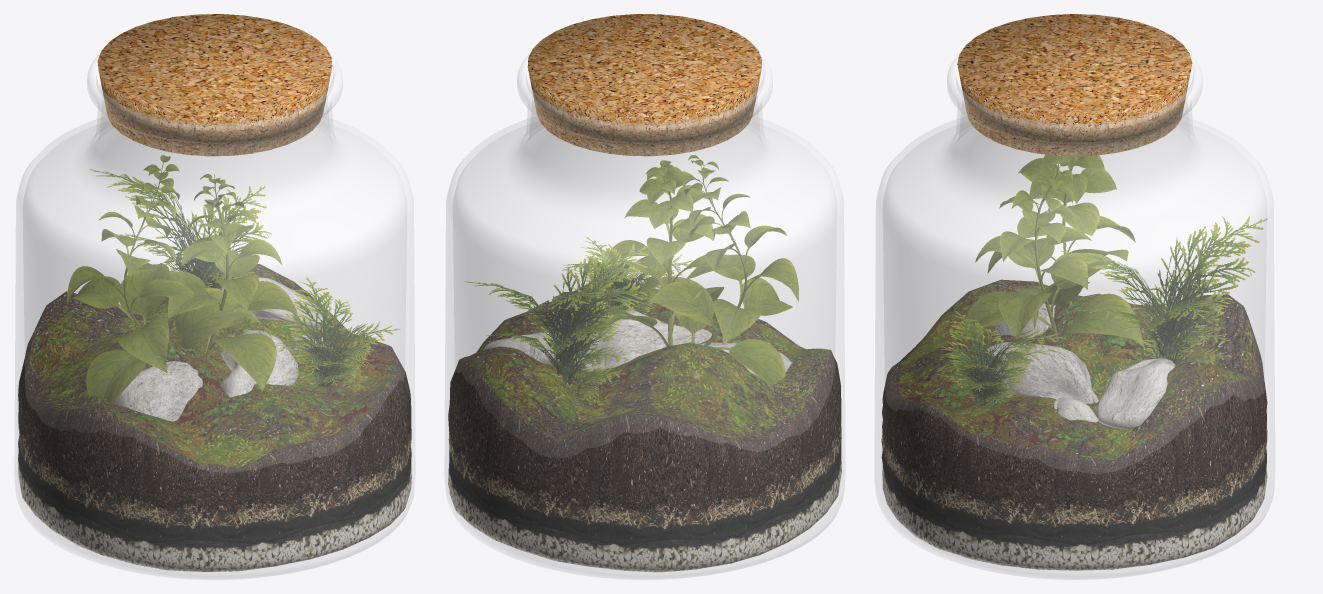
The model's file is terrarium.glb.
3 views of the same model, side by side, from view 1: azimuth 30°, elevation 25°; view 2: azimuth 150°, elevation 25°; view 3: azimuth 270°, elevation 25° (orthographic).
Visible parts, largest first — view 1: Object_4, Object_11, Object_7, Object_8, Object_6, Object_9, Object_10, Object_5; view 2: Object_4, Object_11, Object_7, Object_6, Object_8, Object_9, Object_10, Object_5; view 3: Object_4, Object_11, Object_7, Object_6, Object_8, Object_9, Object_10, Object_5.
Part boxes in pixels (bbox=[...]): Object_4: bbox=[14, 54, 415, 579]; Object_11: bbox=[23, 77, 406, 471]; Object_7: bbox=[18, 311, 411, 571]; Object_8: bbox=[29, 264, 400, 467]; Object_6: bbox=[97, 14, 332, 156]; Object_9: bbox=[67, 155, 298, 403]; Object_10: bbox=[89, 169, 399, 391]; Object_5: bbox=[116, 277, 325, 421]; Object_4: bbox=[444, 54, 845, 579]; Object_11: bbox=[453, 77, 836, 457]; Object_7: bbox=[448, 319, 841, 572]; Object_6: bbox=[527, 14, 762, 156]; Object_8: bbox=[459, 279, 830, 444]; Object_9: bbox=[583, 155, 798, 392]; Object_10: bbox=[464, 237, 693, 399]; Object_5: bbox=[482, 309, 792, 376]; Object_4: bbox=[874, 54, 1274, 579]; Object_11: bbox=[883, 77, 1266, 473]; Object_7: bbox=[881, 307, 1267, 570]; Object_6: bbox=[957, 14, 1192, 156]; Object_8: bbox=[892, 279, 1256, 459]; Object_9: bbox=[959, 154, 1144, 347]; Object_10: bbox=[938, 216, 1267, 406]; Object_5: bbox=[987, 303, 1175, 429].
Size of the model in its own units: 1.95 by 2.35 by 2.11.
8 materials, 6 textured.
